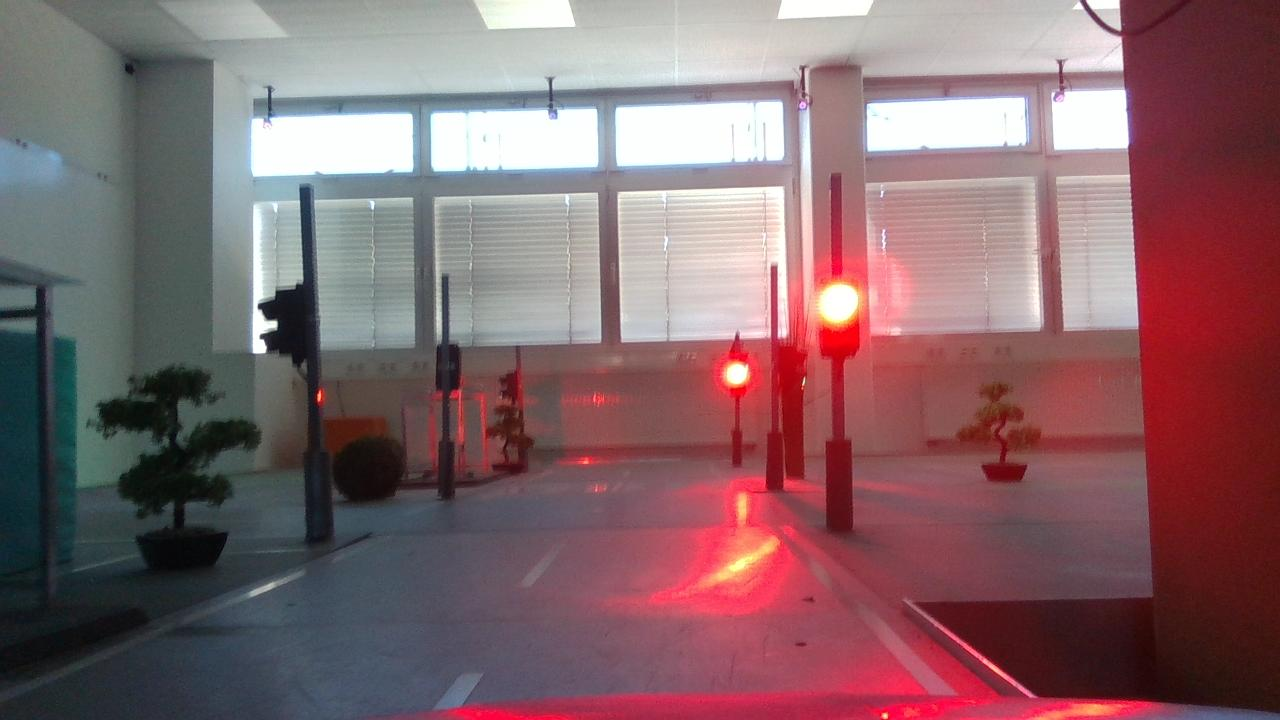traffic_light_red: (794, 268, 877, 371)
